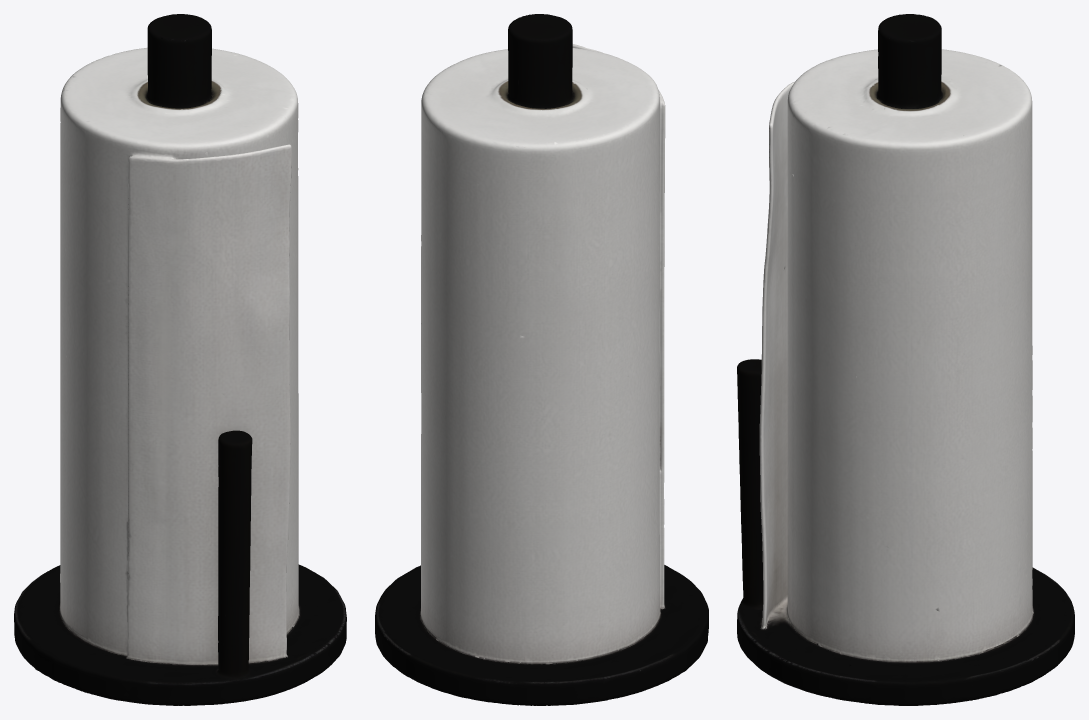
The model's file is paper_towel.glb.
The picture shows the model from 3 angles, left to right: view 1: azimuth 30°, elevation 25°; view 2: azimuth 150°, elevation 25°; view 3: azimuth 270°, elevation 25°; orthographic projection.
Parts seen in each view (by area): view 1: world; view 2: world; view 3: world.
Boxes of the visible parts, bbox=[...] form: world: bbox=[14, 14, 346, 705]; world: bbox=[375, 14, 708, 705]; world: bbox=[737, 14, 1074, 705].
Bounding box in the file's own units: 0.497 × 1 × 0.5021.
1 material, 1 textured.
